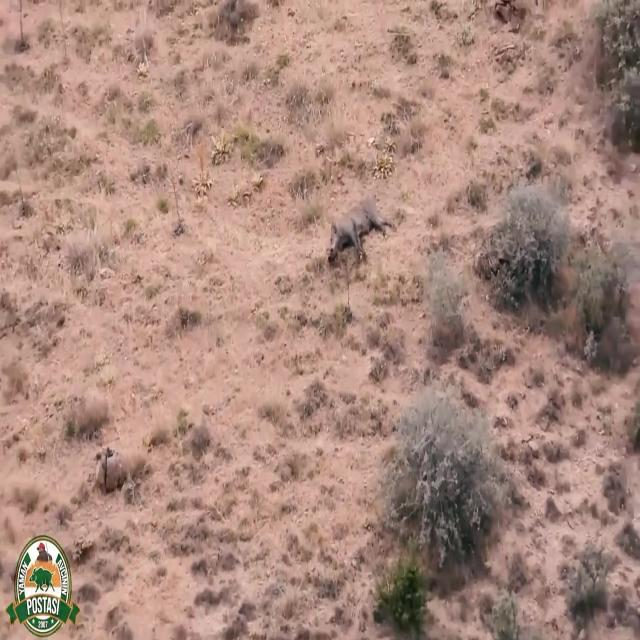pig: (314, 192, 428, 268)
